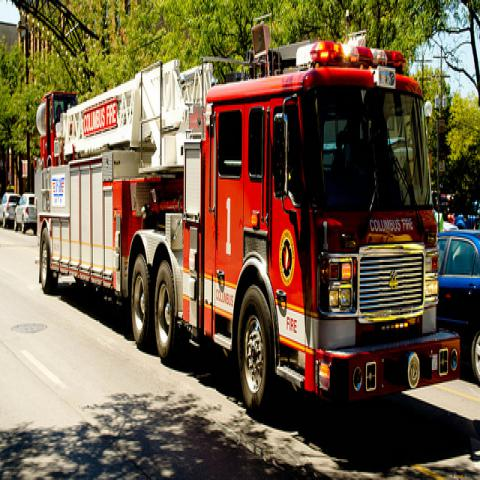car: (436, 231, 480, 385), (14, 192, 37, 236), (0, 190, 20, 231), (456, 219, 465, 229)
truck: (34, 12, 461, 419)
